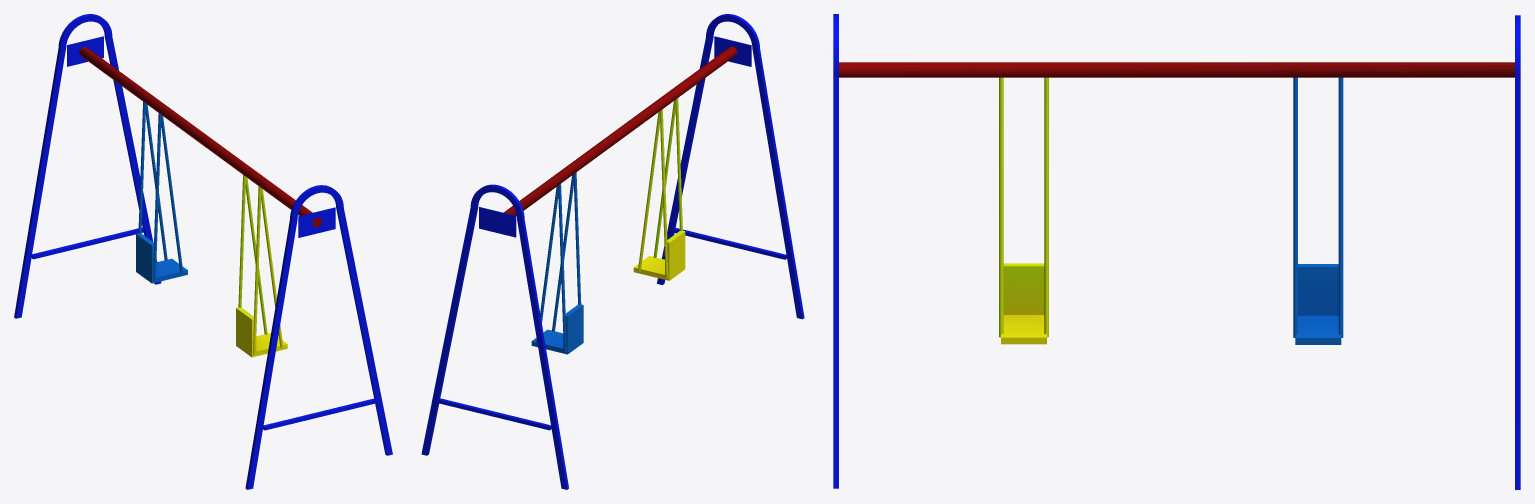
3 views of the same model, side by side, from view 1: azimuth 30°, elevation 25°; view 2: azimuth 150°, elevation 25°; view 3: azimuth 270°, elevation 25° (orthographic). The views are drawn at different scales.
Visible parts, largest first — view 1: bent_frame, bent_frame.001, seat.001, seat, beam; view 2: bent_frame.001, bent_frame, seat, seat.001, beam; view 3: beam, seat.001, seat, bent_frame, bent_frame.001.
Part boxes in pixels (bbox=[...]): bent_frame: bbox=[245, 185, 392, 489]; bent_frame.001: bbox=[14, 14, 161, 318]; seat.001: bbox=[136, 101, 187, 283]; seat: bbox=[236, 175, 287, 357]; beam: bbox=[79, 46, 321, 227]; bent_frame.001: bbox=[421, 184, 568, 489]; bent_frame: bbox=[657, 14, 804, 319]; seat: bbox=[633, 98, 685, 280]; seat.001: bbox=[531, 172, 583, 354]; beam: bbox=[503, 46, 737, 215]; beam: bbox=[839, 62, 1514, 77]; seat.001: bbox=[1293, 77, 1343, 344]; seat: bbox=[999, 77, 1048, 344]; bent_frame: bbox=[833, 14, 838, 488]; bent_frame.001: bbox=[1515, 15, 1520, 489].
Size of the model in its own units: 1.08 by 2.01 by 2.99.
